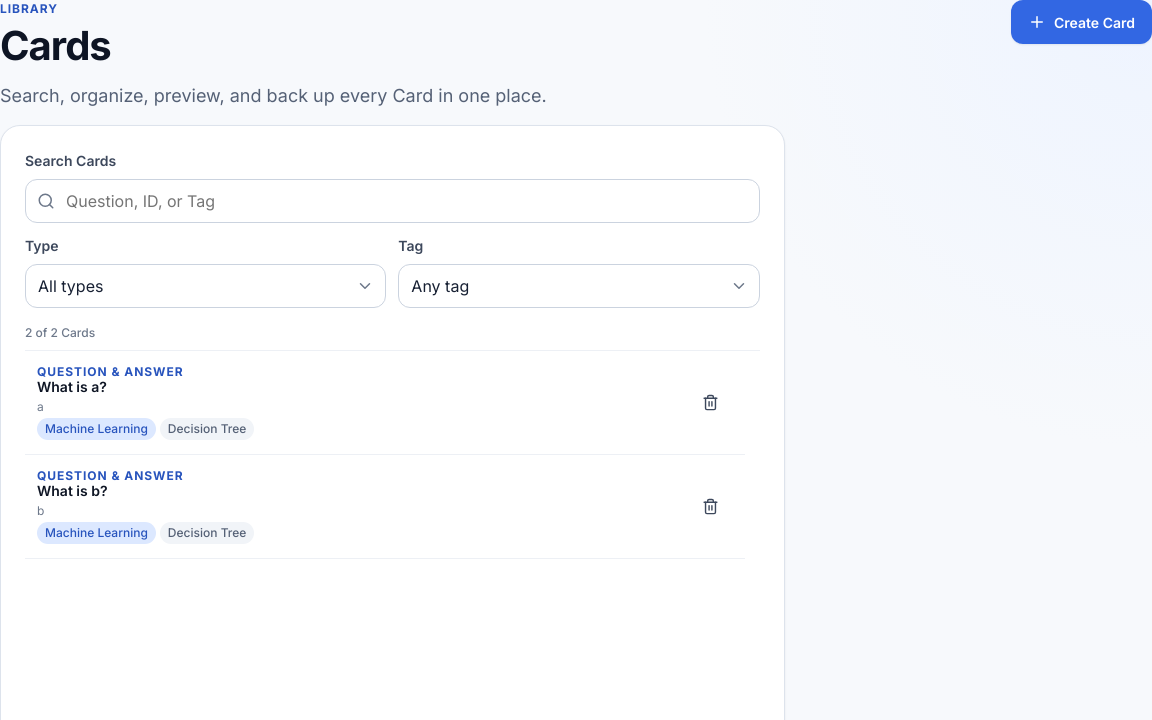
Test: Card deleted. stays after a second delete, and Dismiss removes it
Click the button named "Delete a".
click(711, 402)  # box x1=689 y1=380 x2=733 y2=424
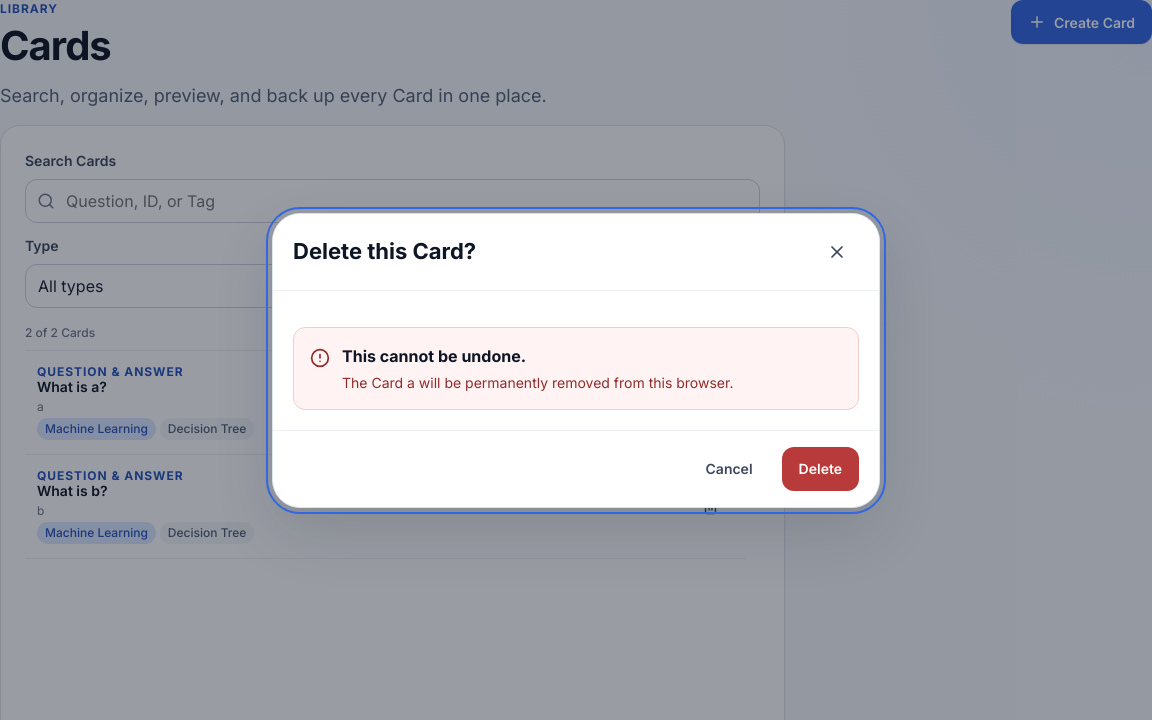
Click the button "Delete".
click(820, 468)  # box x1=782 y1=446 x2=859 y2=490
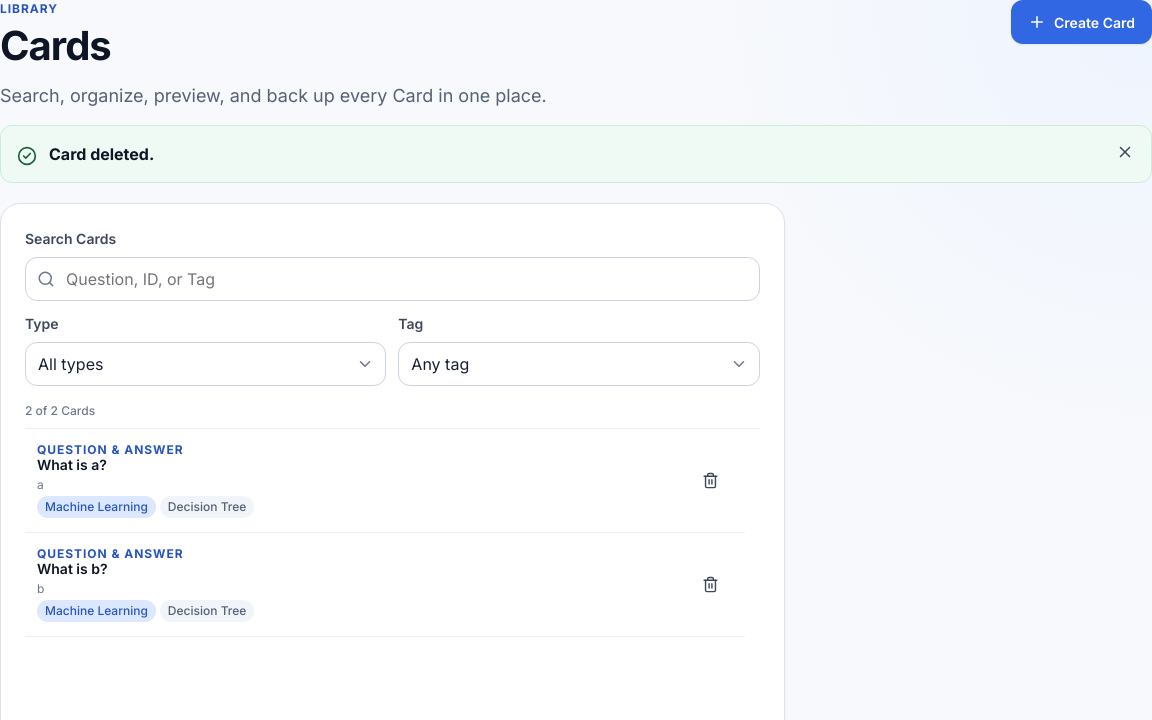
Click the button named "Delete b".
click(711, 584)  # box x1=689 y1=562 x2=733 y2=606
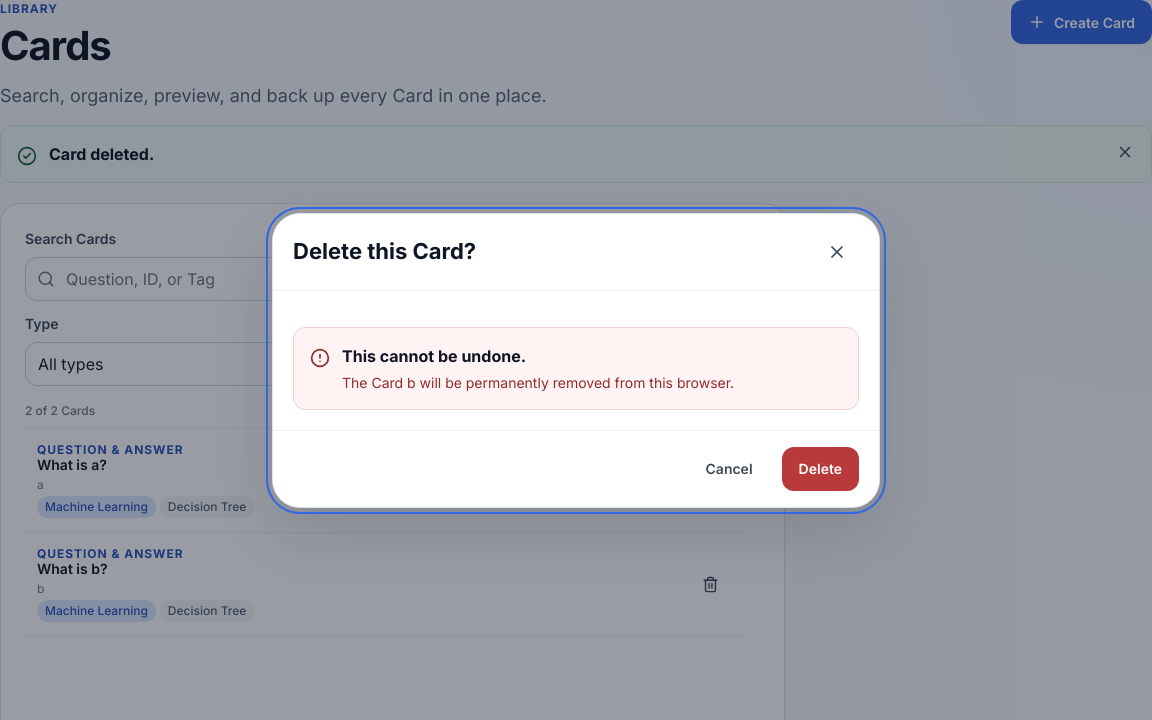
Click the button "Delete".
click(820, 468)  # box x1=782 y1=446 x2=859 y2=490
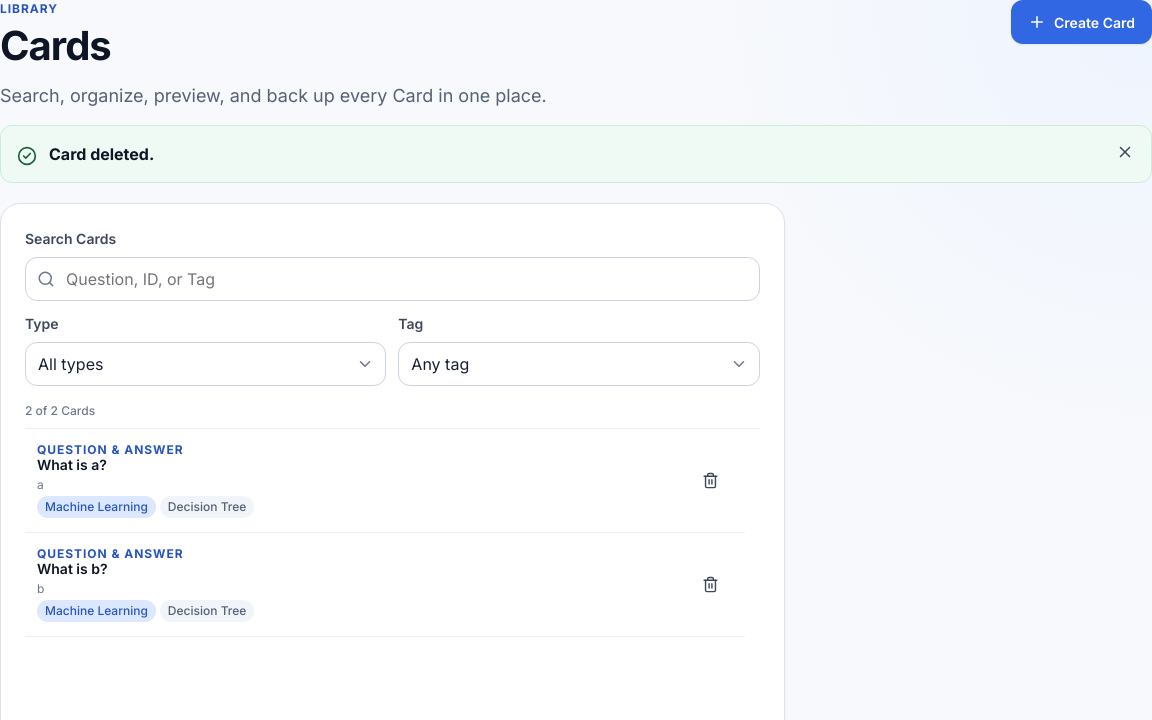
Click the button named "Dismiss".
click(1125, 152)  # box x1=1103 y1=130 x2=1147 y2=174
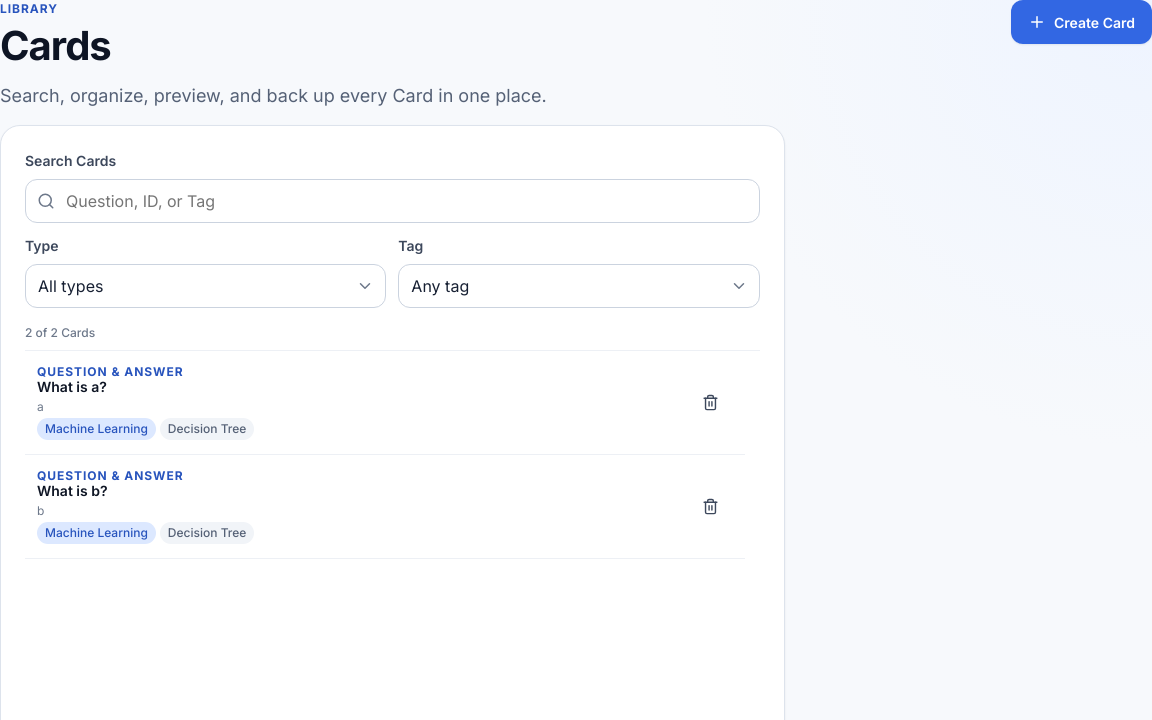
Expected: the message "Card deleted." is gone
Expected: the text "Card deleted." is gone
